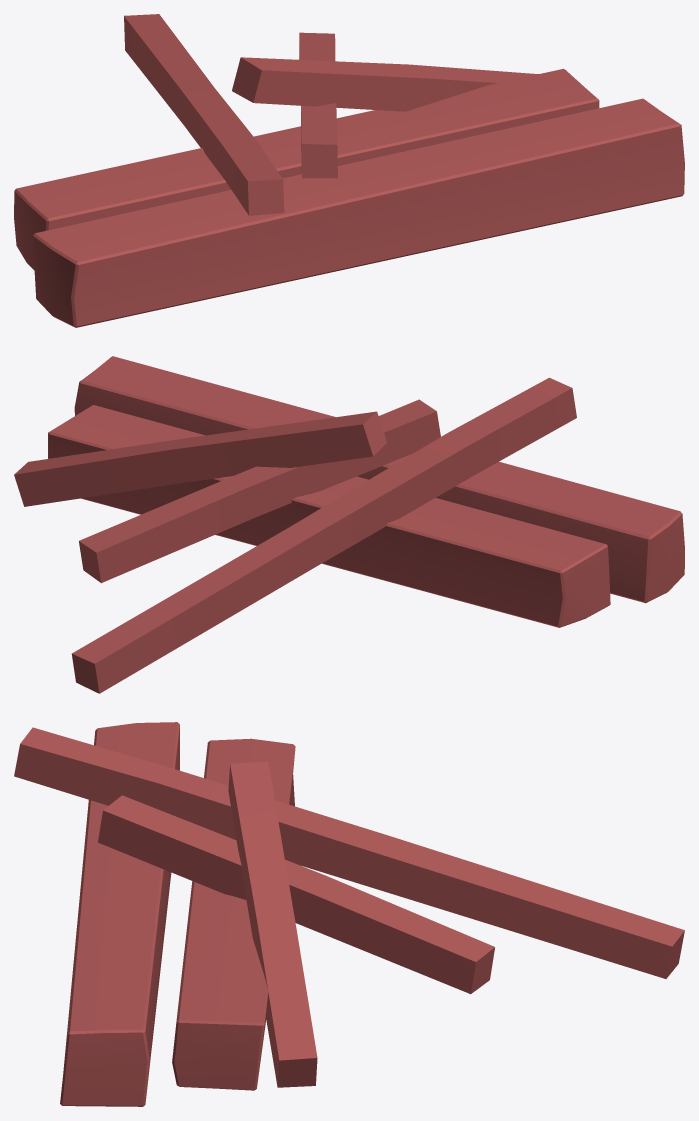
The model's file is Beams_Pile_02_Lod0.fbx.
3 views of the same model, one above another, from view 1: azimuth 30°, elevation 25°; view 2: azimuth 150°, elevation 25°; view 3: azimuth 270°, elevation 25° (orthographic). The views are drawn at different scales.
Visible parts, largest first — view 1: Beams_Pile_02_Lod0; view 2: Beams_Pile_02_Lod0; view 3: Beams_Pile_02_Lod0.
Part boxes in pixels (x1,y1,x2,y2): Beams_Pile_02_Lod0: (14, 14, 684, 327); Beams_Pile_02_Lod0: (14, 356, 684, 693); Beams_Pile_02_Lod0: (14, 722, 684, 1106).
Bounding box in the file's own units: 160 × 39.41 × 144.
